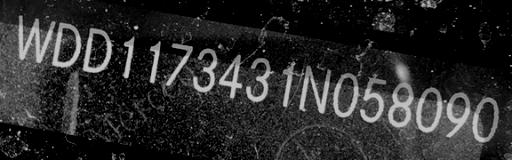letter: (14, 12, 56, 68), (294, 66, 332, 114), (52, 18, 82, 72), (80, 27, 114, 73), (162, 40, 194, 88), (470, 96, 502, 142), (358, 76, 388, 124), (386, 82, 416, 128), (332, 70, 360, 118), (414, 86, 442, 134), (444, 91, 472, 139), (191, 47, 219, 93), (218, 53, 246, 99), (244, 56, 272, 102), (272, 61, 298, 109), (139, 38, 165, 82), (116, 34, 138, 80)
